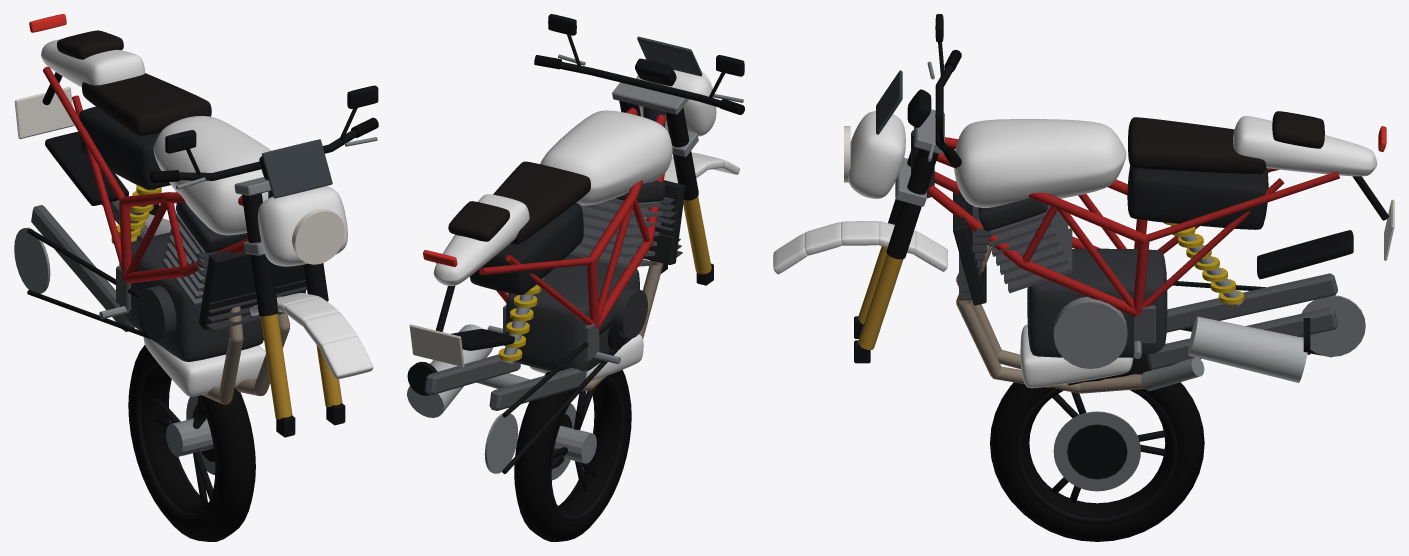
Rendered from bike.glb.
3 views of the same model, side by side, from view 1: azimuth 30°, elevation 25°; view 2: azimuth 150°, elevation 25°; view 3: azimuth 270°, elevation 25° (orthographic). The views are drawn at different scales.
Visible parts, largest first — view 1: bike_trim, bike_body, bike_wheel, bike_glass, bike_heads, bike_tails; view 2: bike_trim, bike_body, bike_wheel, bike_glass; view 3: bike_trim, bike_body, bike_wheel, bike_glass.
Part boxes in pixels (<box>): bike_trim: <box>14,30,378,437</box>; bike_body: <box>41,39,373,396</box>; bike_wheel: <box>128,345,255,541</box>; bike_glass: <box>262,139,332,198</box>; bike_heads: <box>292,208,344,264</box>; bike_tails: <box>29,14,66,32</box>; bike_trim: <box>407,14,744,473</box>; bike_body: <box>433,70,739,381</box>; bike_wheel: <box>514,370,631,541</box>; bike_glass: <box>637,36,702,76</box>; bike_trim: <box>854,14,1394,393</box>; bike_body: <box>773,111,1377,388</box>; bike_wheel: <box>990,357,1204,541</box>; bike_glass: <box>876,70,902,134</box>.
Bounding box in the file's own units: 0.7684 × 1.57 × 1.85.
